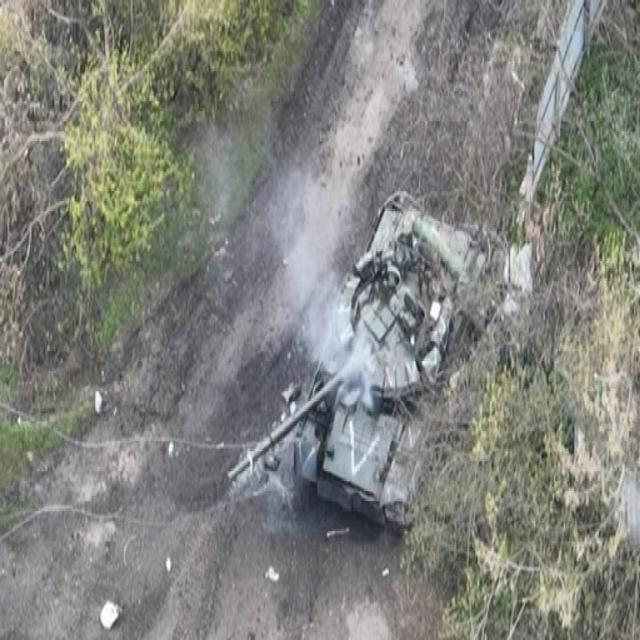TANK: (224, 184, 494, 536)
